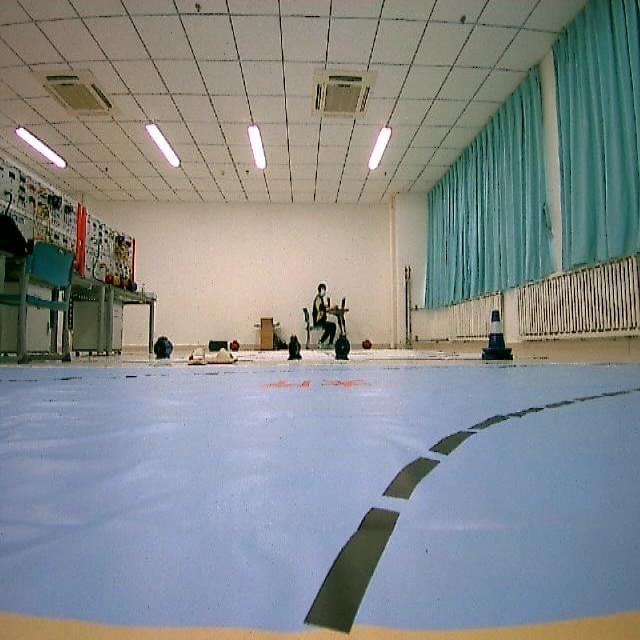obstacle: (474, 303, 516, 368)
